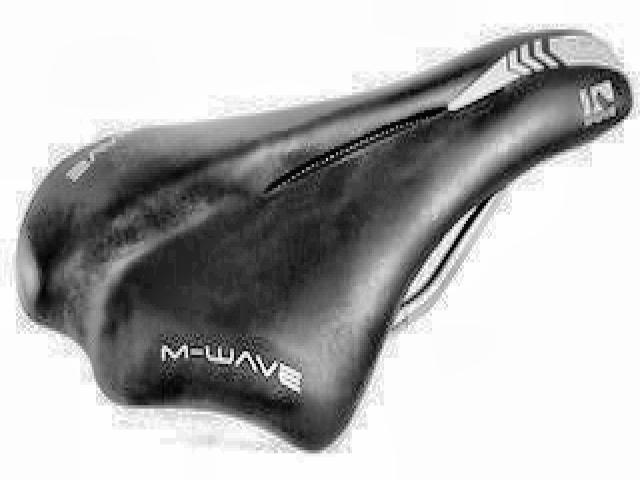saddle: (14, 19, 635, 460)
